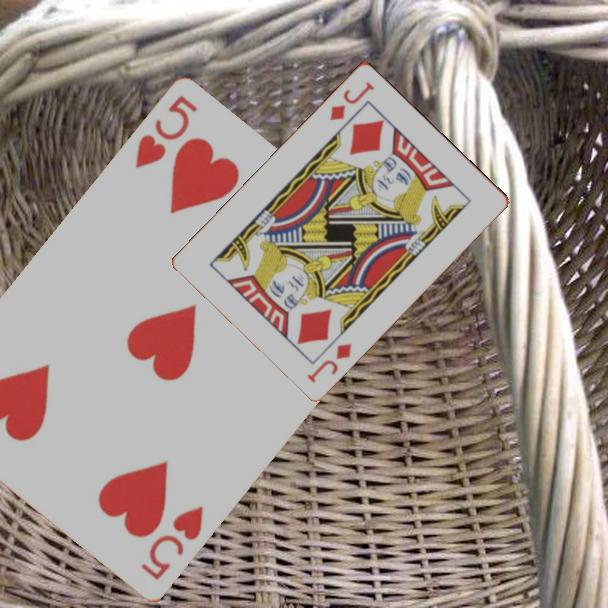d11: (303, 339, 354, 385), (326, 78, 377, 123)
h05: (137, 502, 207, 584), (131, 92, 201, 172)
